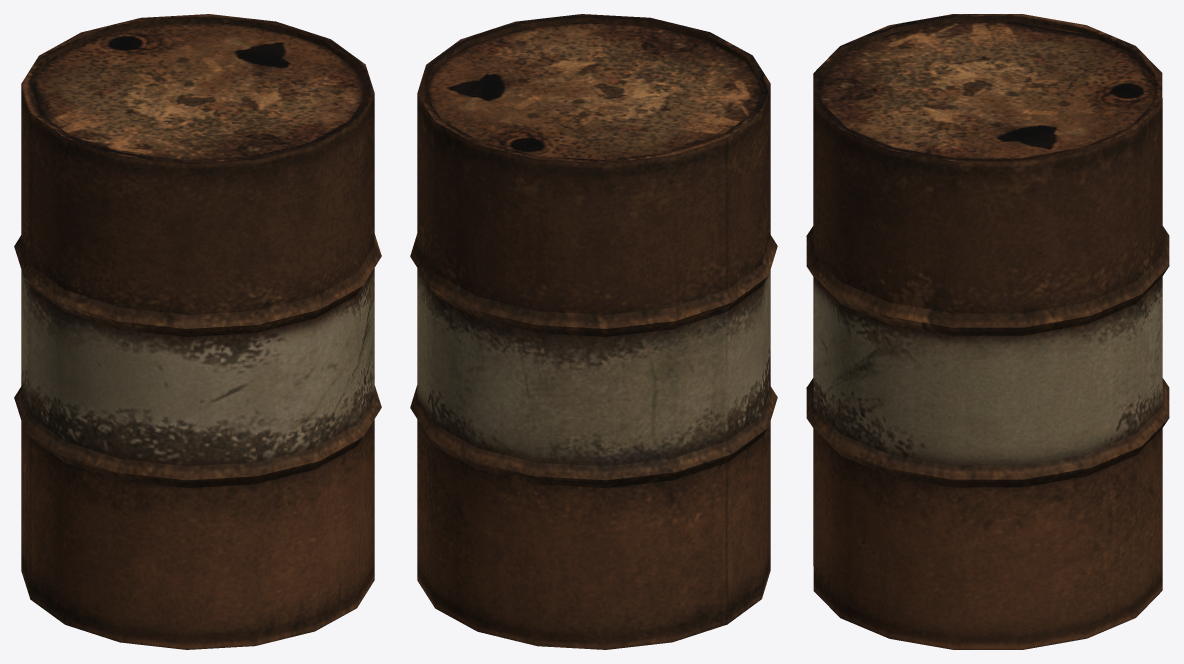
File: metal_barrel_hr_2.dae
3 views of the same model, side by side, from view 1: azimuth 30°, elevation 25°; view 2: azimuth 150°, elevation 25°; view 3: azimuth 270°, elevation 25° (orthographic).
Visible parts, largest first — view 1: metal_barrel_hr_2; view 2: metal_barrel_hr_2; view 3: metal_barrel_hr_2.
Part boxes in pixels (<box>): metal_barrel_hr_2: <box>14,14,381,649</box>; metal_barrel_hr_2: <box>410,14,777,649</box>; metal_barrel_hr_2: <box>806,14,1169,649</box>.
Bounding box in the file's own units: 0.6735 × 0.6735 × 1.
Materials: 1 (1 with a texture image).
